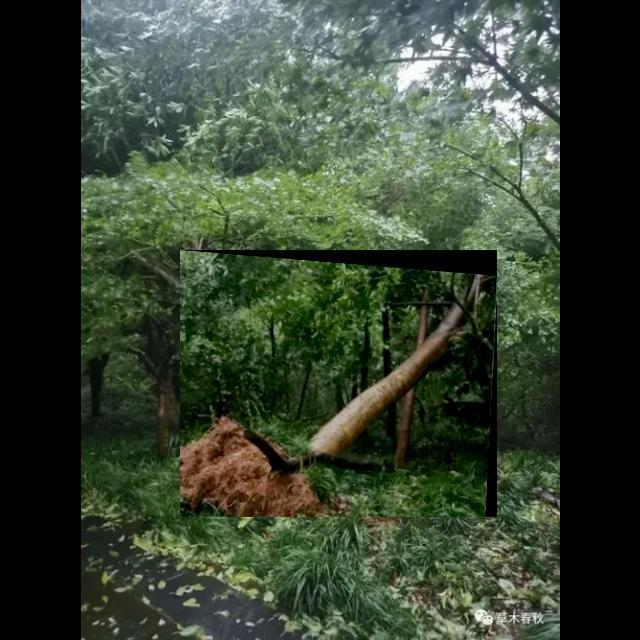fallen_tree: (180, 250, 498, 518)
